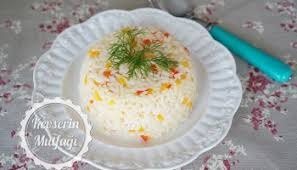pirinc_pilavi: (80, 26, 196, 144)
